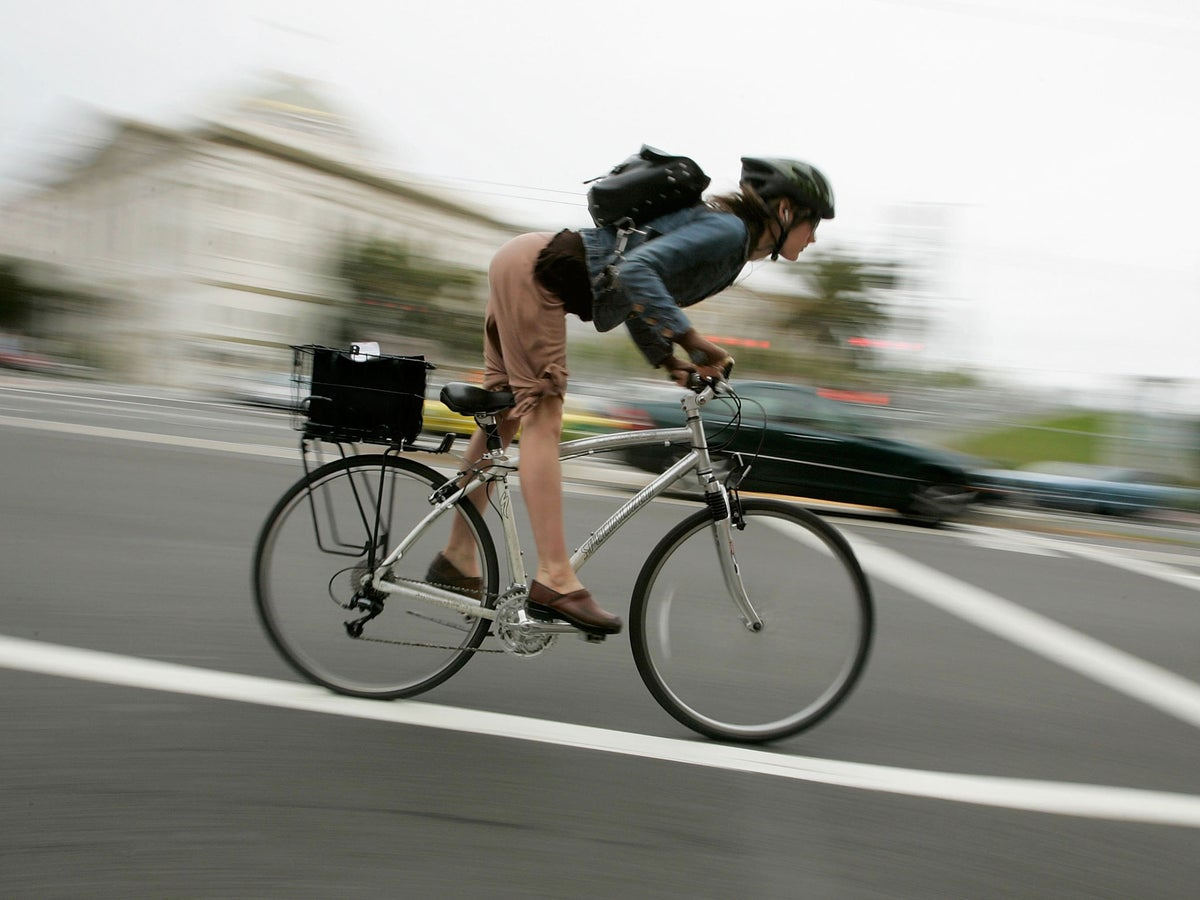helmet: (738, 155, 835, 262)
